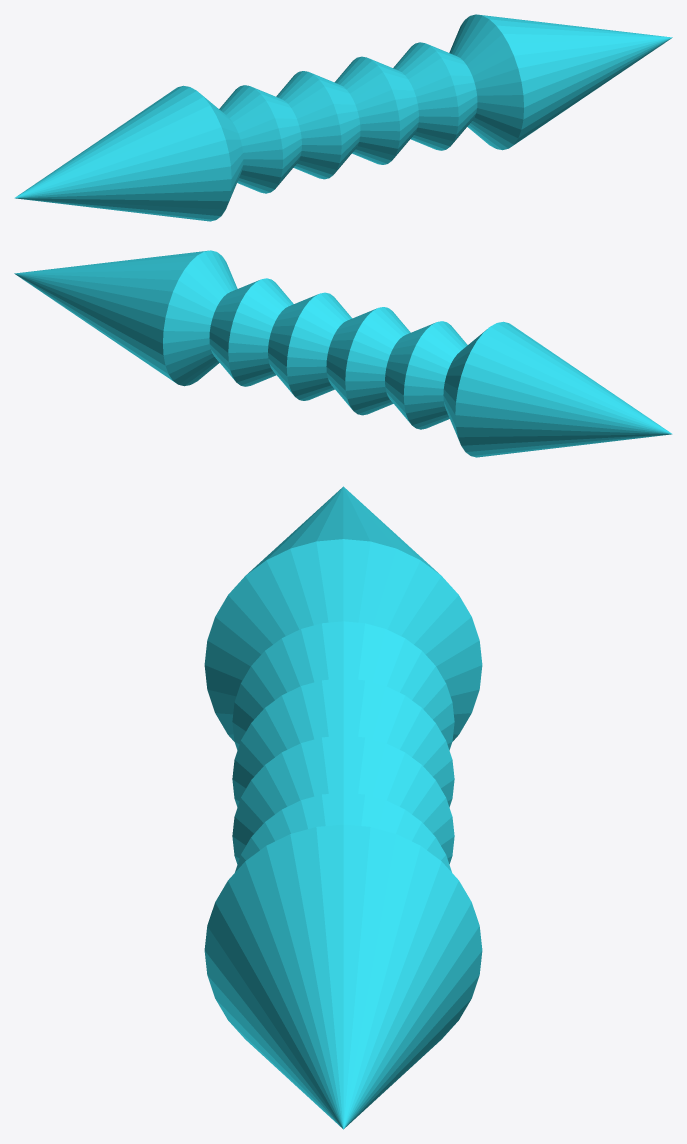
Rendered from Weaponn_Projectile.fbx.
3 views of the same model, one above another, from view 1: azimuth 30°, elevation 25°; view 2: azimuth 150°, elevation 25°; view 3: azimuth 270°, elevation 25° (orthographic). The views are drawn at different scales.
Parts seen in each view (by area): view 1: Drone_Projectile; view 2: Drone_Projectile; view 3: Drone_Projectile.
Part boxes in pixels (<box>): Drone_Projectile: <box>14,14,672,221</box>; Drone_Projectile: <box>14,250,672,457</box>; Drone_Projectile: <box>204,486,482,1129</box>.
Size of the model in its own units: 169 by 30.91 by 30.91.
